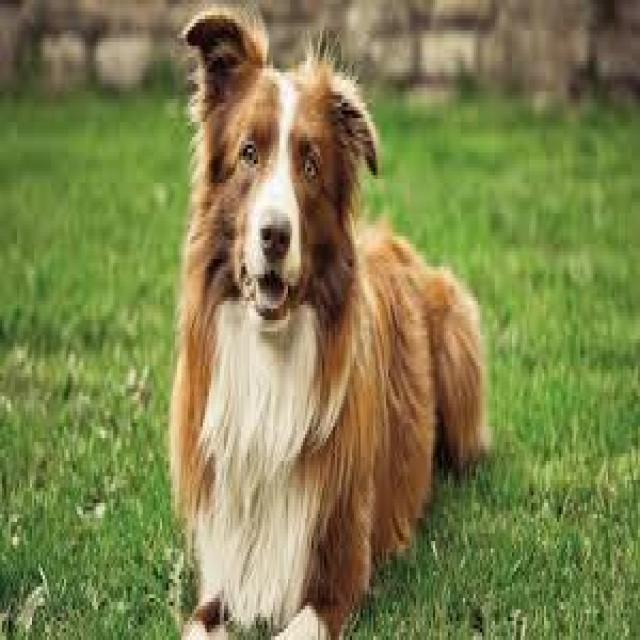BORDER_COLLIE: (150, 0, 508, 640)
